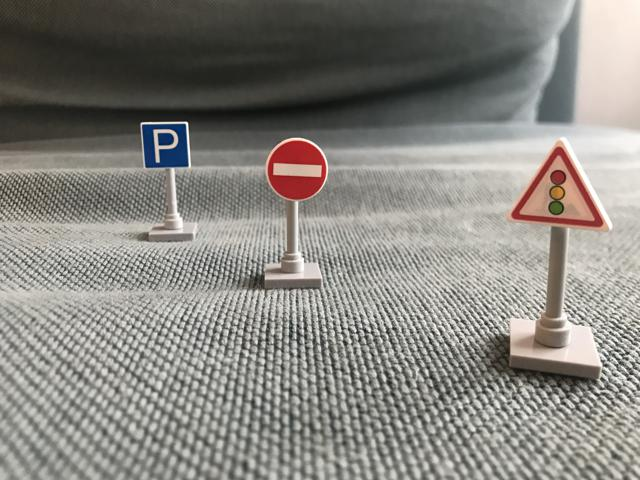lichtzeichenanlage: (505, 135, 617, 233)
parken: (140, 119, 194, 171)
verbot der einfahrt: (262, 134, 330, 204)
